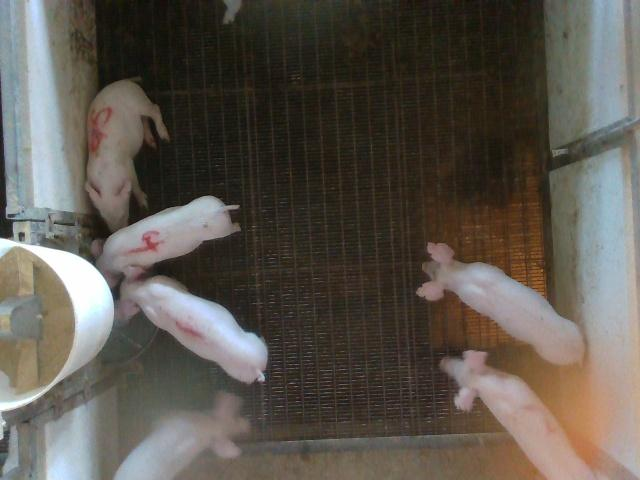pig-1: (115, 265, 268, 382)
pig-2: (441, 350, 594, 478)
pig-4: (98, 196, 239, 274)
pig-5: (86, 80, 169, 232)
